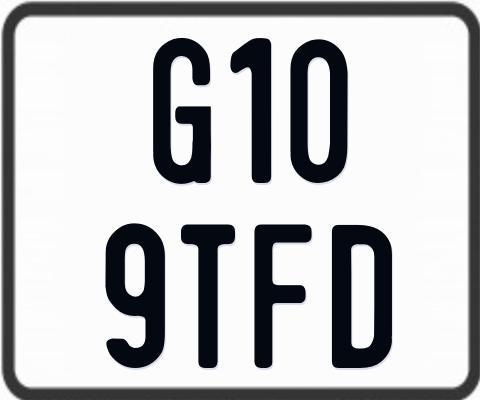0: (288, 36, 349, 185)
1: (228, 36, 271, 183)
9: (104, 221, 167, 367)
D: (332, 224, 395, 368)
F: (254, 222, 312, 367)
G: (152, 35, 214, 187)
T: (180, 222, 234, 367)
